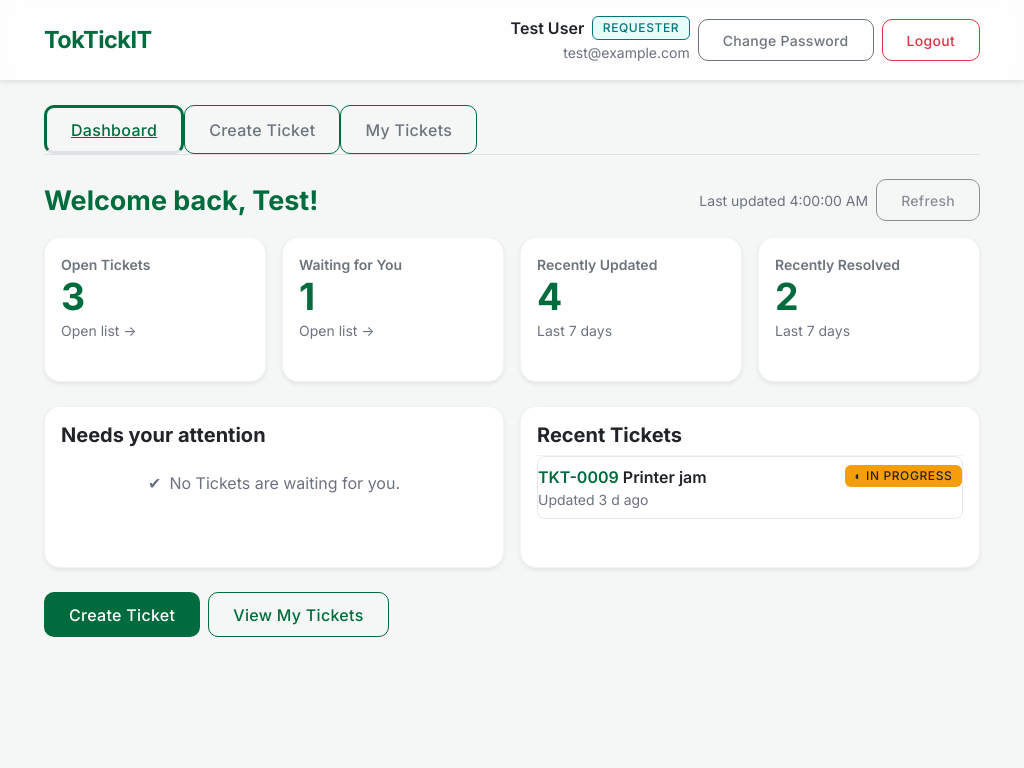
Scenario: UI-25: role navigation, landing page and dashboard drill-down (Issue #33) › opening a Ticket from the dashboard shows Back to Dashboard and returns there
Click the link "TKT-0009 Printer jam" at (622, 477), box top-left (538, 465), bottom-right (707, 489)
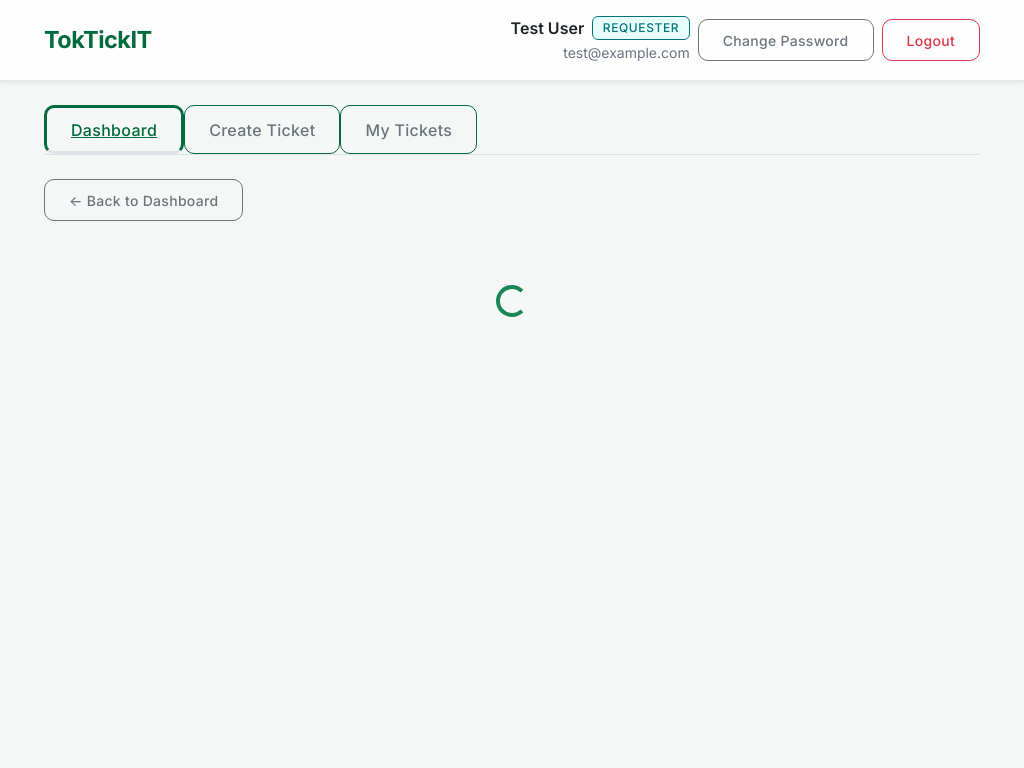
Click the button "← Back to Dashboard" at (144, 200), box top-left (44, 179), bottom-right (243, 221)
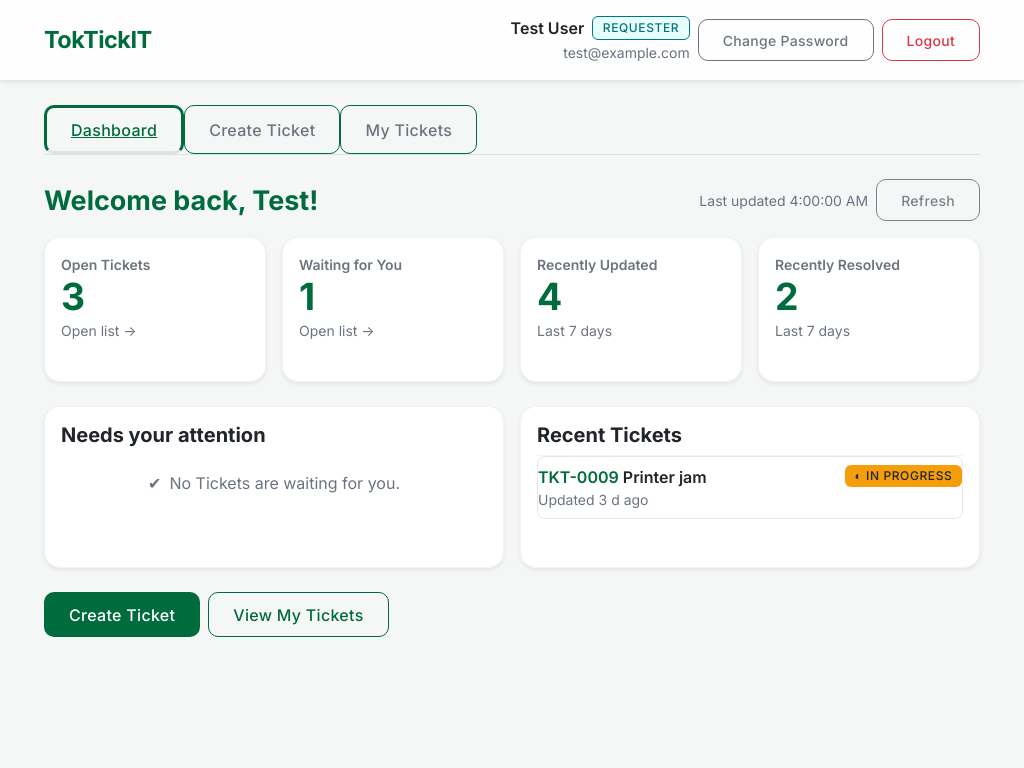
Now the link with aria-label "Open Tickets: 3" is shown, box top-left (44, 237), bottom-right (266, 382)
